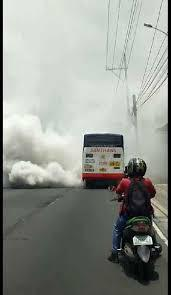smoke: (2, 100, 86, 189), (115, 112, 171, 185)
